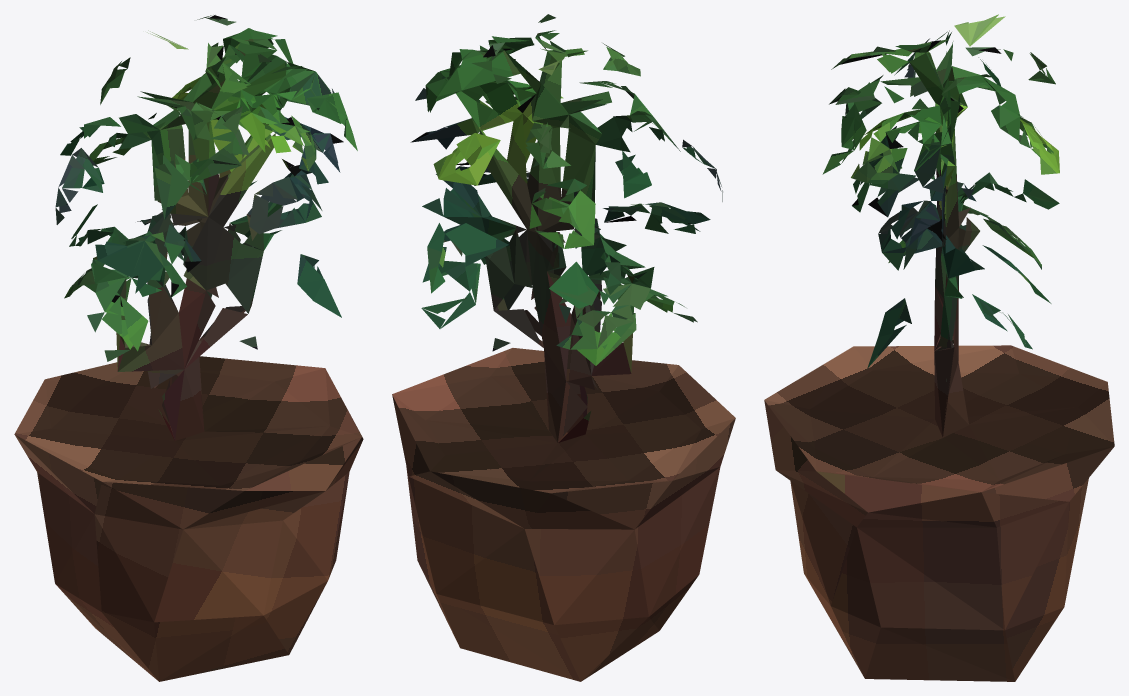
File: plant.obj
3 views of the same model, side by side, from view 1: azimuth 30°, elevation 25°; view 2: azimuth 150°, elevation 25°; view 3: azimuth 270°, elevation 25° (orthographic). The views are drawn at different scales.
Bounding box in the file's own units: 0.2966 × 0.5625 × 0.286.
